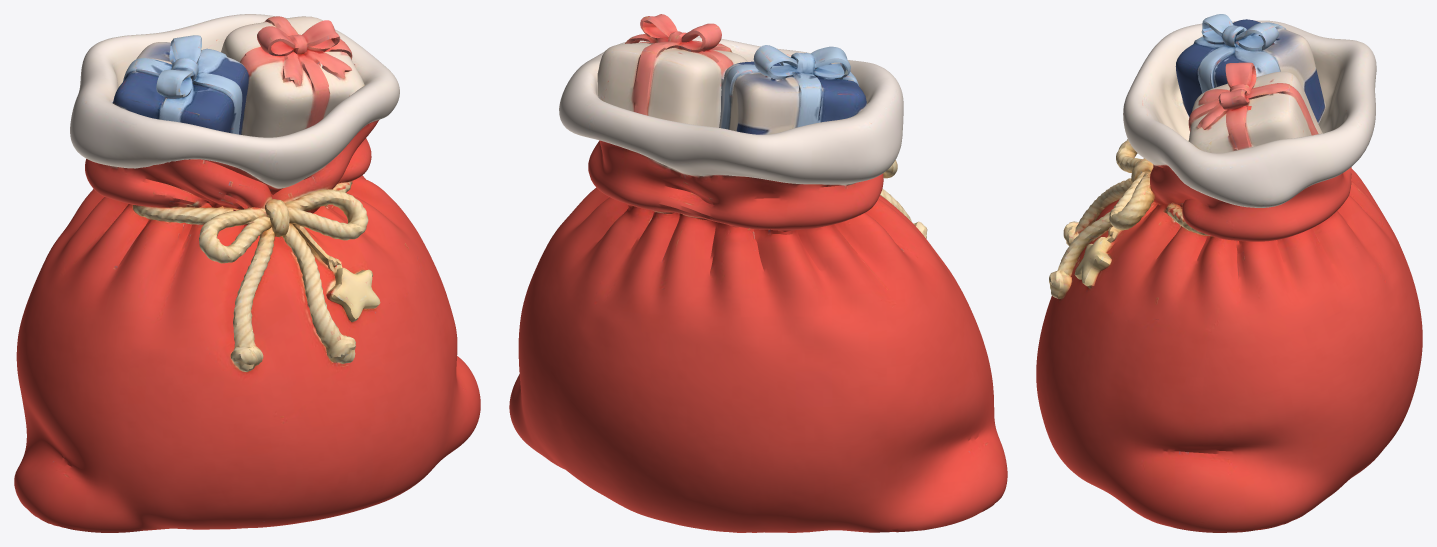
Rendered from christmas-gift-sack.glb.
3 renders of one model, left to right at view 1: azimuth 30°, elevation 25°; view 2: azimuth 150°, elevation 25°; view 3: azimuth 270°, elevation 25°, orthographic. The views are drawn at different scales.
Bounding box in the file's own units: 1.9 × 1.71 × 1.52.
1 material, 1 textured.
